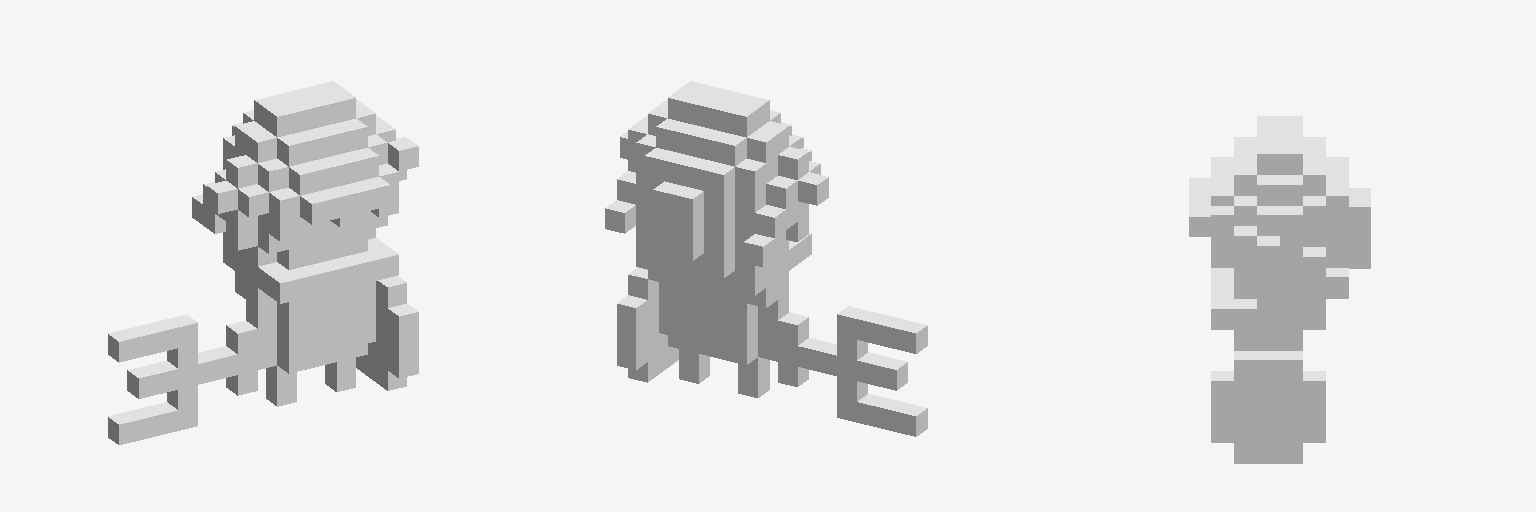
Rendered from chr_redfolk.obj.
3 renders of one model, left to right at view 1: azimuth 30°, elevation 25°; view 2: azimuth 150°, elevation 25°; view 3: azimuth 270°, elevation 25°, orthographic.
Visible parts, largest first — view 1: chr_redfolk; view 2: chr_redfolk; view 3: chr_redfolk.
Part boxes in pixels (x1,y1,x2,y2): chr_redfolk: (108,81,418,444); chr_redfolk: (605,81,927,436); chr_redfolk: (1189,116,1370,463).
Bounding box in the file's own units: 15 × 14 × 8.